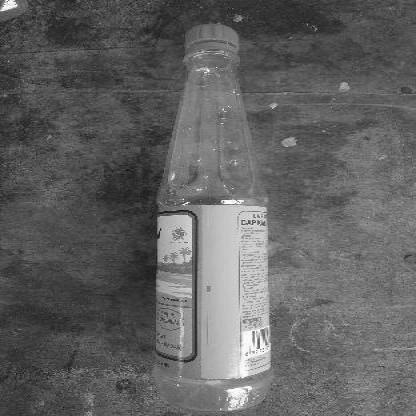plastic_bottles: (152, 21, 276, 416)
